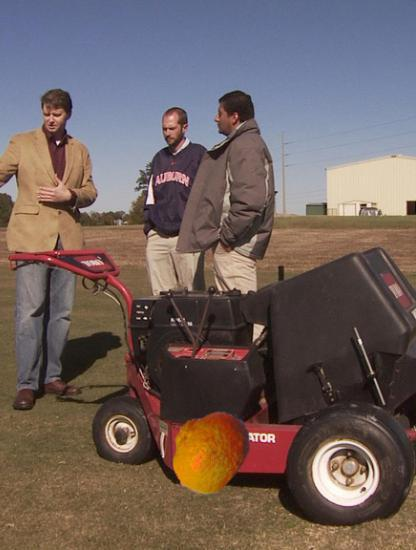Mandarine: (165, 406, 254, 495)
